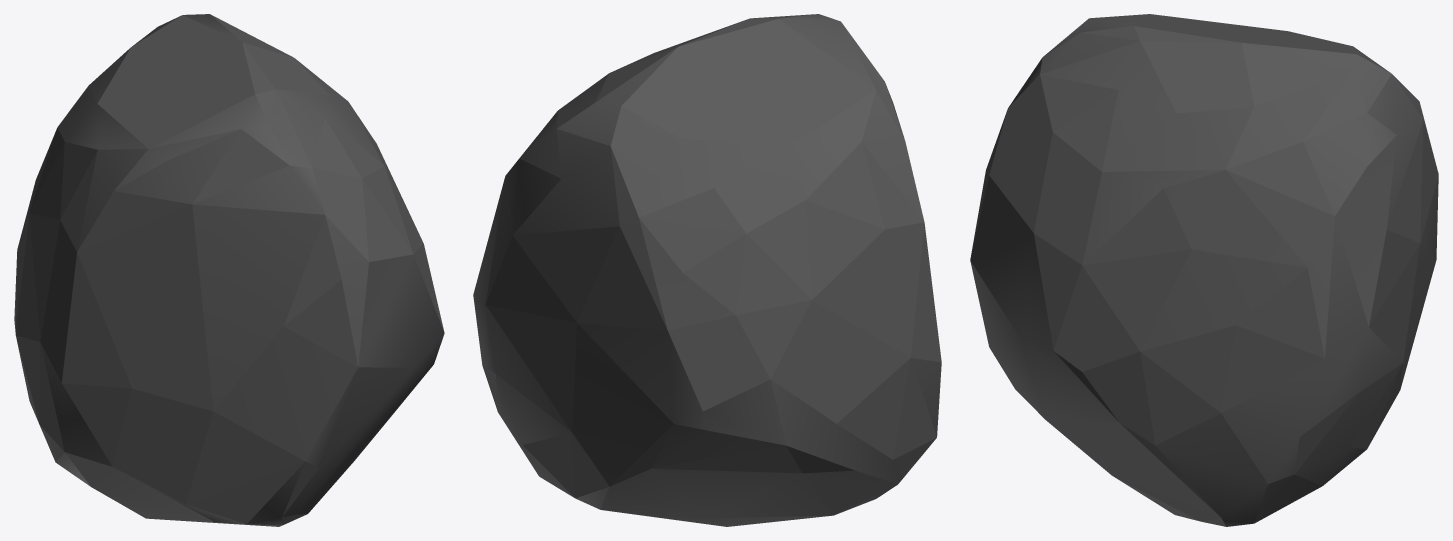
File: Rock3.obj
3 views of the same model, side by side, from view 1: azimuth 30°, elevation 25°; view 2: azimuth 150°, elevation 25°; view 3: azimuth 270°, elevation 25° (orthographic). The views are drawn at different scales.
Parts seen in each view (by area): view 1: Cube_Cube.002; view 2: Cube_Cube.002; view 3: Cube_Cube.002.
Part boxes in pixels (left/top/right/bottom): Cube_Cube.002: left=14, top=14, right=444, bottom=526; Cube_Cube.002: left=473, top=14, right=941, bottom=526; Cube_Cube.002: left=970, top=14, right=1438, bottom=526.
Size of the model in its own units: 0.892 by 1.06 by 0.9713.
